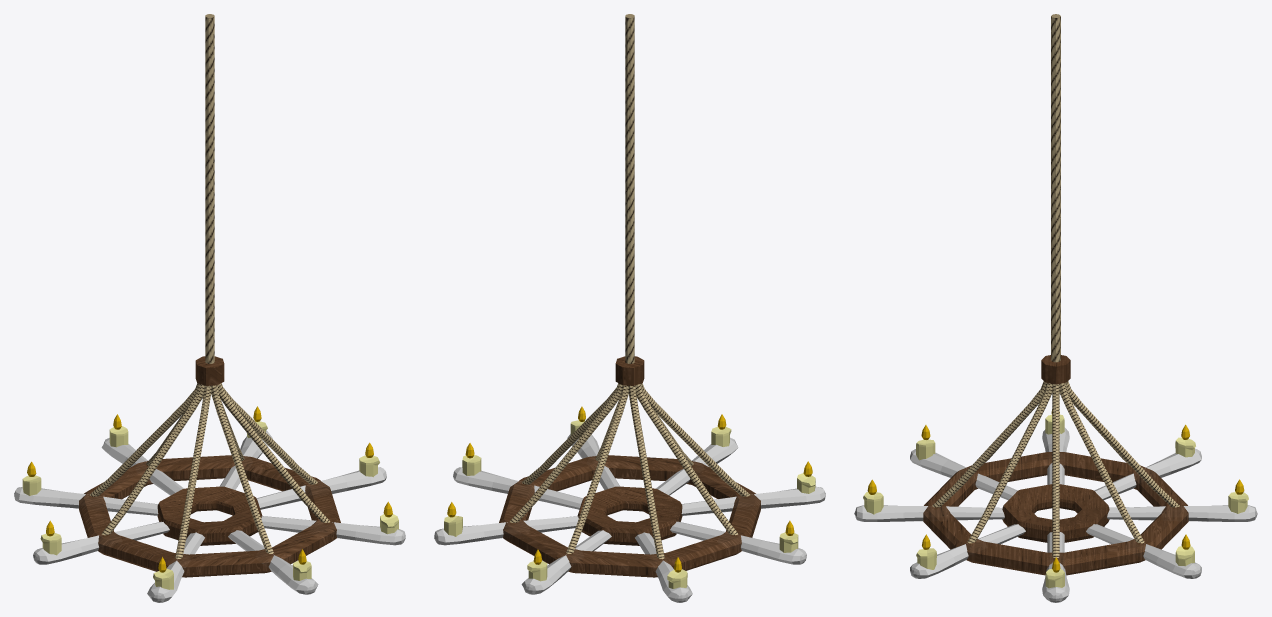
File: chandelier04.fbx
3 renders of one model, left to right at view 1: azimuth 30°, elevation 25°; view 2: azimuth 150°, elevation 25°; view 3: azimuth 270°, elevation 25°, orthographic.
Visible parts, largest first — view 1: Circle, Circle.001, Cylinder.026, Cylinder.005, Cylinder.007, Cylinder.002, Cylinder, Cylinder.021, Cylinder.025, Cylinder.024, Cylinder.023, Cylinder.001 (+6 smaller); view 2: Circle, Circle.001, Cylinder.026, Cylinder.004, Cylinder.006, Cylinder.002, Cylinder, Cylinder.021, Cylinder.009, Cylinder.019, Cylinder.020, Cylinder.003 (+6 smaller); view 3: Circle, Circle.001, Cylinder.026, Cylinder.003, Cylinder.001, Cylinder.004, Cylinder.020, Cylinder.023, Cylinder.005, Cylinder.022, Cylinder.019, Cylinder.024 (+5 smaller).
Boxes of the visible parts, bbox=[...] form: Circle: bbox=[79, 455, 340, 577]; Circle.001: bbox=[157, 486, 262, 545]; Cylinder.026: bbox=[205, 14, 214, 363]; Cylinder.005: bbox=[261, 516, 405, 545]; Cylinder.007: bbox=[14, 487, 158, 515]; Cylinder.002: bbox=[33, 521, 169, 564]; Cylinder: bbox=[256, 467, 386, 509]; Cylinder.021: bbox=[102, 384, 204, 535]; Cylinder.025: bbox=[175, 385, 211, 558]; Cylinder.024: bbox=[211, 385, 273, 553]; Cylinder.023: bbox=[217, 383, 330, 522]; Cylinder.001: bbox=[228, 530, 318, 594]; Circle: bbox=[499, 455, 760, 577]; Circle.001: bbox=[577, 486, 682, 545]; Cylinder.026: bbox=[625, 14, 634, 363]; Cylinder.004: bbox=[434, 516, 578, 545]; Cylinder.006: bbox=[681, 486, 825, 515]; Cylinder.002: bbox=[670, 521, 806, 564]; Cylinder: bbox=[453, 467, 583, 509]; Cylinder.021: bbox=[635, 384, 737, 535]; Cylinder.009: bbox=[628, 385, 664, 558]; Cylinder.019: bbox=[566, 385, 628, 553]; Cylinder.020: bbox=[509, 383, 622, 522]; Cylinder.003: bbox=[521, 530, 611, 594]; Circle: bbox=[923, 452, 1188, 575]; Circle.001: bbox=[1002, 484, 1109, 542]; Cylinder.026: bbox=[1051, 14, 1060, 362]; Cylinder.003: bbox=[1107, 505, 1257, 521]; Cylinder.001: bbox=[854, 505, 1004, 521]; Cylinder.004: bbox=[1086, 524, 1201, 578]; Cylinder.020: bbox=[1059, 383, 1144, 543]; Cylinder.023: bbox=[967, 383, 1052, 543]; Cylinder.005: bbox=[910, 524, 1025, 578]; Cylinder.022: bbox=[1052, 384, 1059, 557]; Cylinder.019: bbox=[1065, 381, 1179, 507]; Cylinder.024: bbox=[932, 381, 1046, 507].
Bounding box in the file's own units: 2047 × 2832 × 2047.
